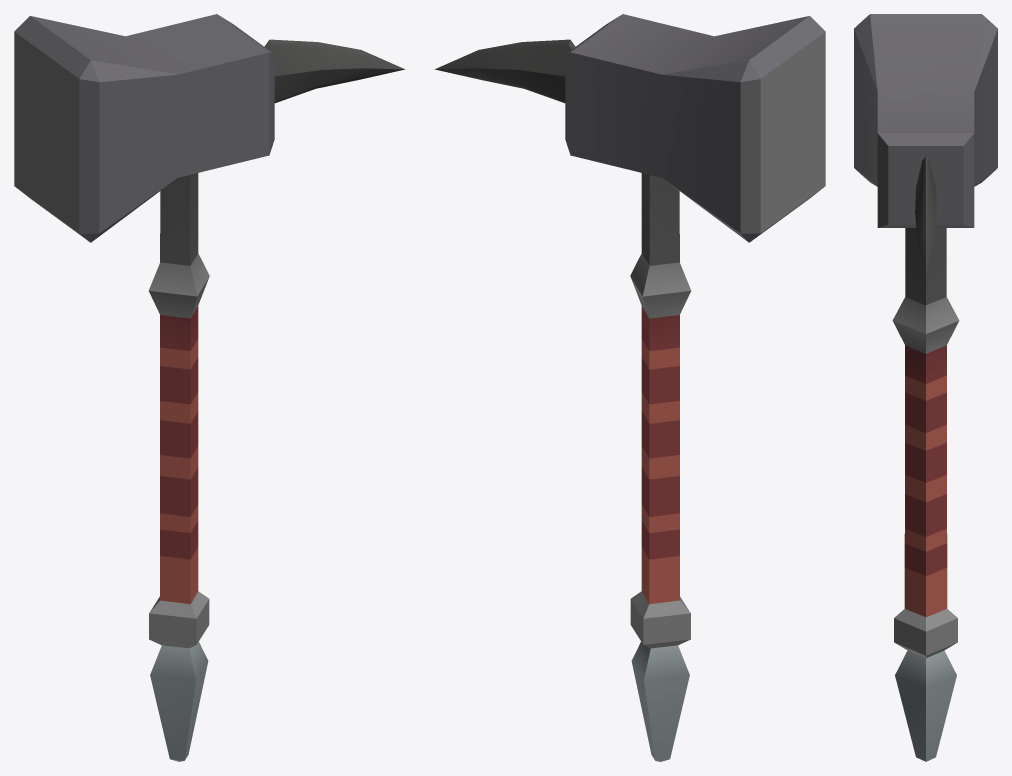
Rendered from Mace_8.fbx.
The picture shows the model from 3 angles, left to right: view 1: azimuth 30°, elevation 25°; view 2: azimuth 150°, elevation 25°; view 3: azimuth 270°, elevation 25°; orthographic projection. The views are drawn at different scales.
Parts seen in each view (by area): view 1: polySurface248; view 2: polySurface248; view 3: polySurface248.
Boxes of the visible parts, x1=… form: polySurface248: x1=14, y1=14, x2=404, y2=761; polySurface248: x1=435, y1=14, x2=825, y2=761; polySurface248: x1=854, y1=14, x2=997, y2=761.
Size of the model in its own units: 124 by 249 by 46.71.
